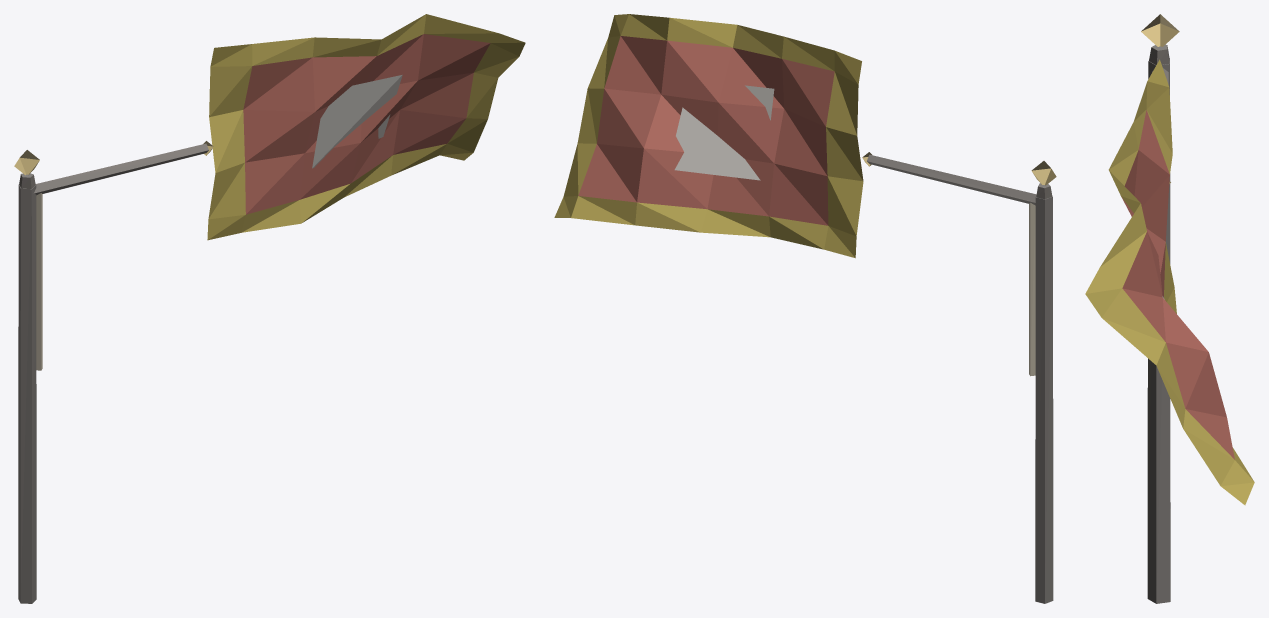
File: flag.rect.chizhi__pole.stick.fangun__armFly.glb
3 renders of one model, left to right at view 1: azimuth 30°, elevation 25°; view 2: azimuth 150°, elevation 25°; view 3: azimuth 270°, elevation 25°, orthographic. The views are drawn at different scales.
Parts seen in each view (by area): view 1: flag.rect.chizhi; view 2: flag.rect.chizhi; view 3: flag.rect.chizhi.
Boxes of the visible parts, <box> form: flag.rect.chizhi: <box>14,14,525,603</box>; flag.rect.chizhi: <box>554,14,1056,603</box>; flag.rect.chizhi: <box>1085,14,1254,603</box>.
Bounding box in the file's own units: 2.56 × 2.57 × 0.5998.
